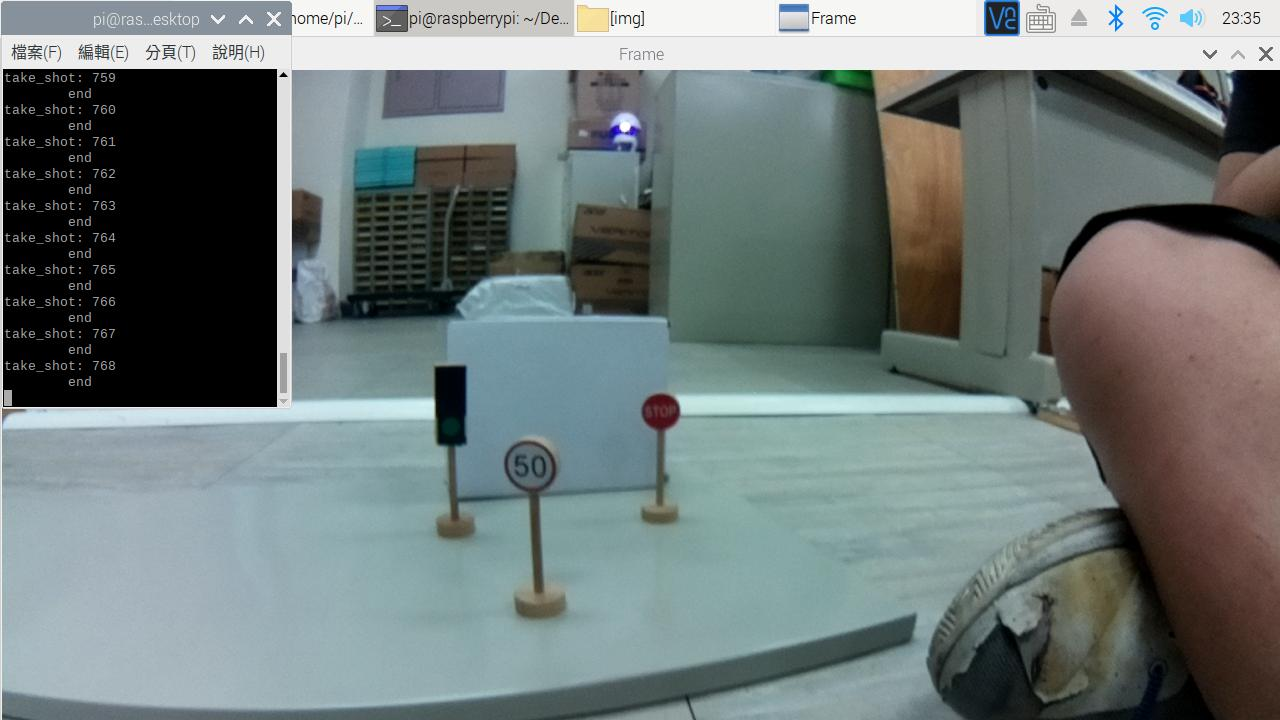Green: (422, 361, 483, 464)
Speed50: (504, 434, 568, 496)
Stop: (635, 391, 689, 430)
